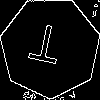T: (25, 22, 64, 74)
